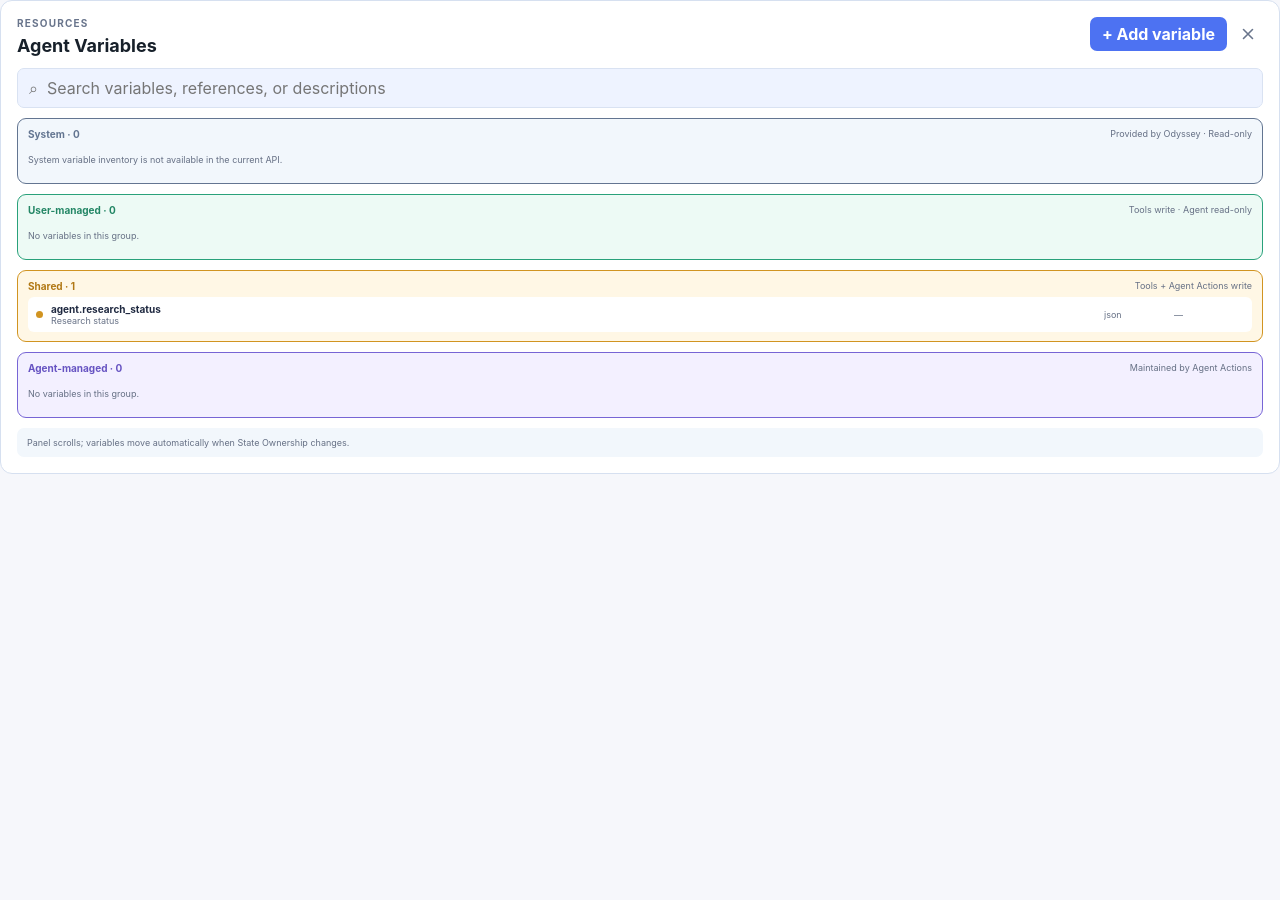
Test: AgentVariablesPanel › shows reference impact and disables deletion
The width and height of the screenshot is (1280, 900).
Click the button "agent.research_status Research status json —".
click(106, 308)  # box [28,296,1252,332]
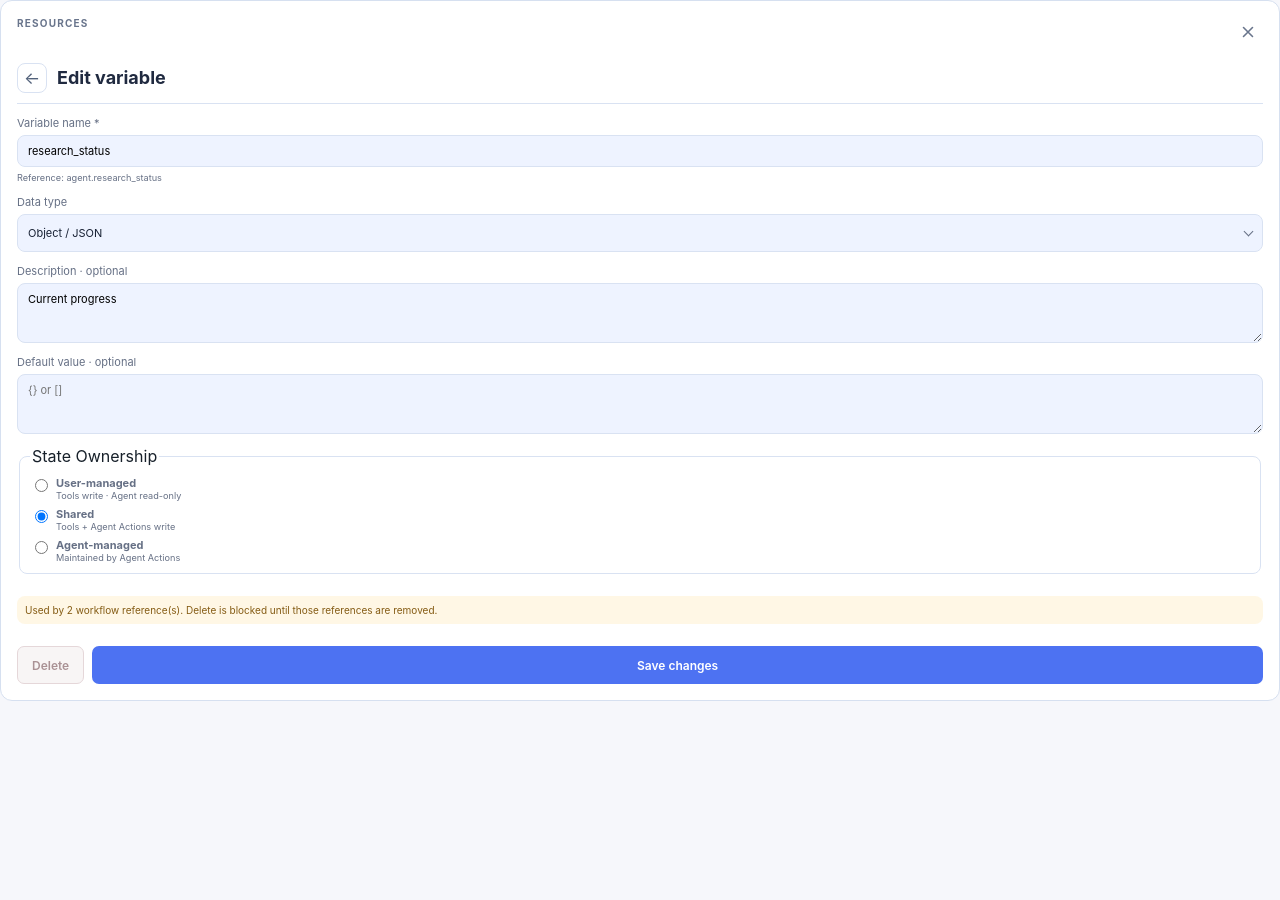
Now the text "Used by 2 workflow reference(s)" is shown, box [25,604,437,616]
Now the button "Delete" is disabled, box [17,646,84,684]
